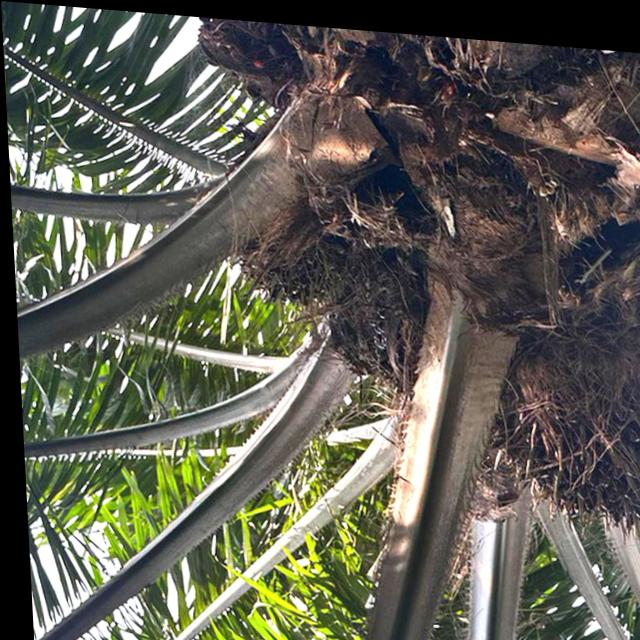unripe: (457, 303, 640, 549), (201, 163, 396, 323)
